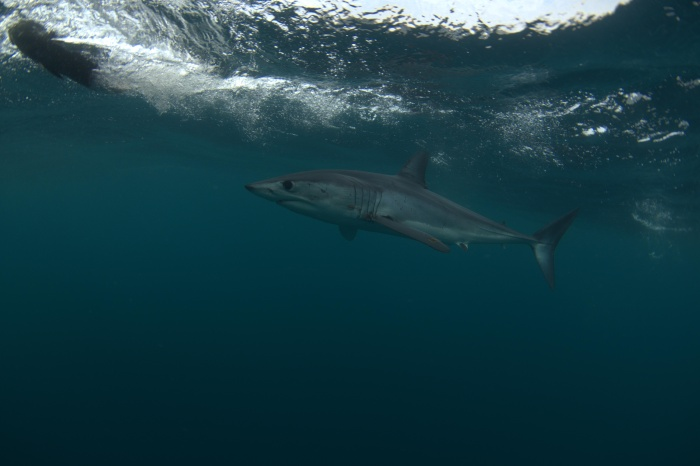Mako: (232, 139, 584, 296)
